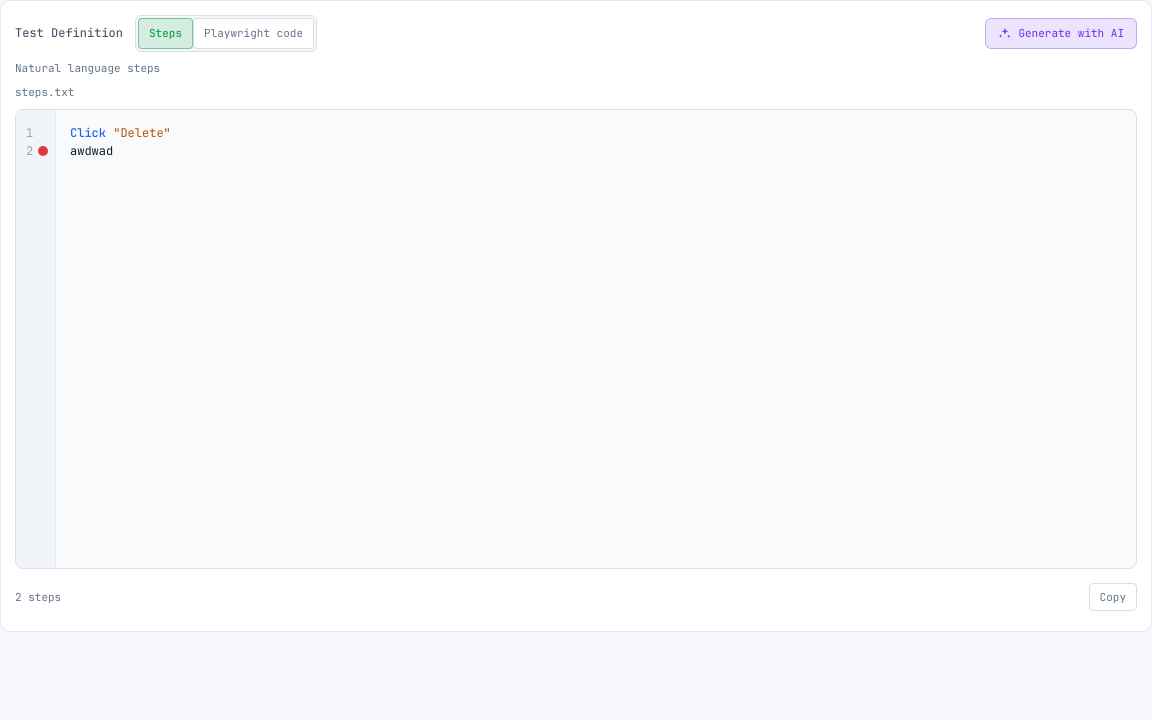
Scenario: TestCaseEditorPanel › renders red error indicator beside the line number with error tooltip
The width and height of the screenshot is (1152, 720).
Hover over the icon named "Line 2 has error indicator" at (43, 150), box [38, 146, 48, 156]
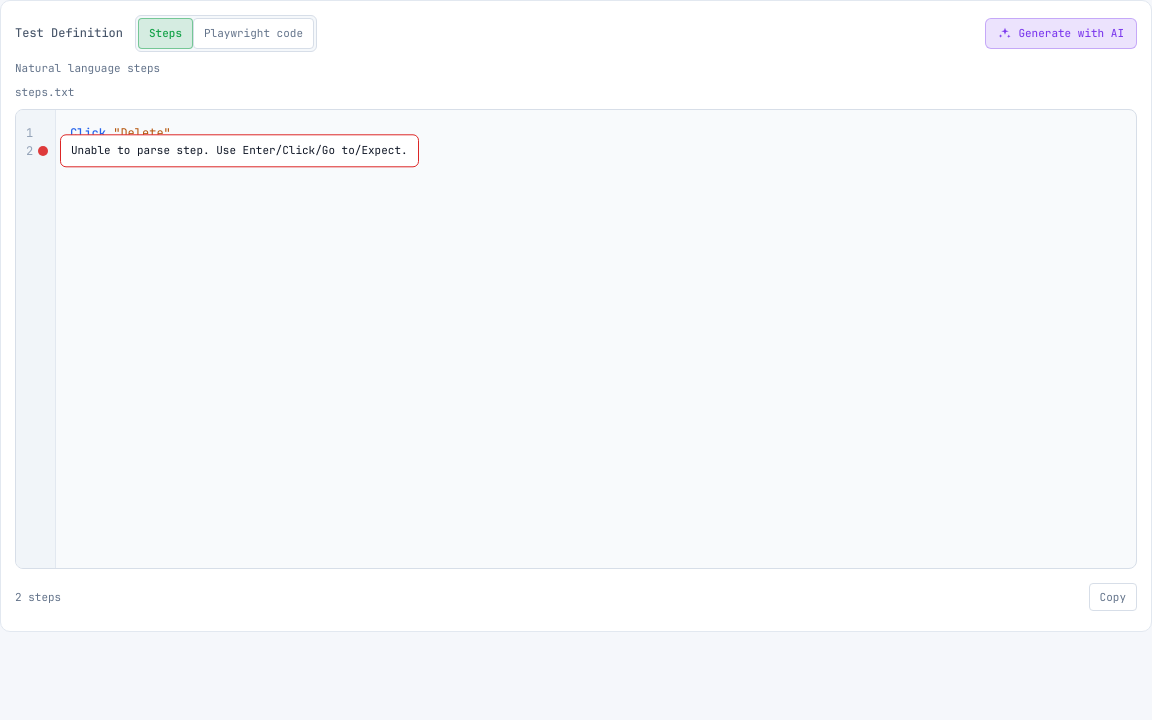
Expected: the tooltip reads "Unable to parse step. Use Enter/Click/Go to/Expect.", [71, 143, 408, 157]
